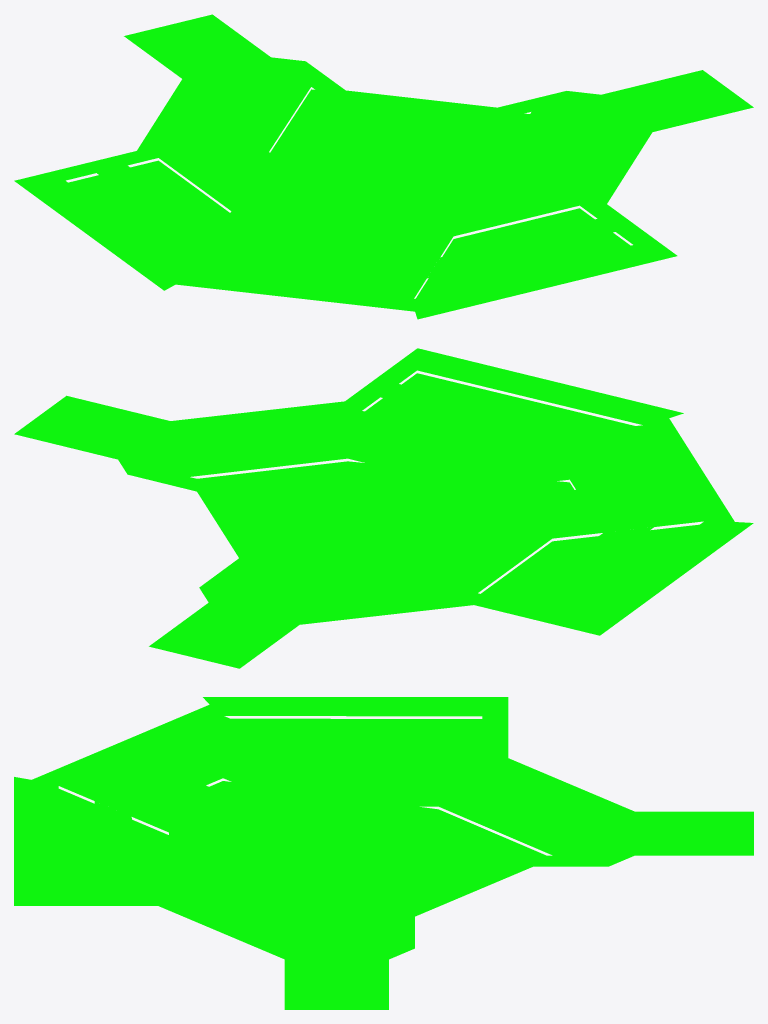
The model's file is s082_lb1-floor.glb.
The picture shows the model from 3 angles, top to bottom: view 1: azimuth 30°, elevation 25°; view 2: azimuth 150°, elevation 25°; view 3: azimuth 270°, elevation 25°; orthographic projection. The views are drawn at different scales.
Parts seen in each view (by area): view 1: collision_floor-colonly; view 2: collision_floor-colonly; view 3: collision_floor-colonly.
Boxes of the visible parts, x1,y1,x2,y2 form: collision_floor-colonly: [14, 14, 753, 319]; collision_floor-colonly: [14, 348, 753, 668]; collision_floor-colonly: [14, 697, 753, 1009].
Bounding box in the file's own units: 49.68 × 0.1992 × 49.68.
